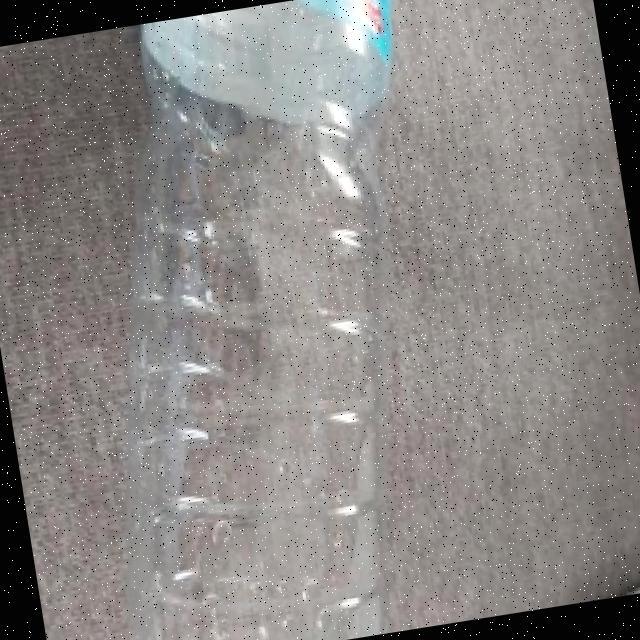bottle: (18, 0, 500, 640)
